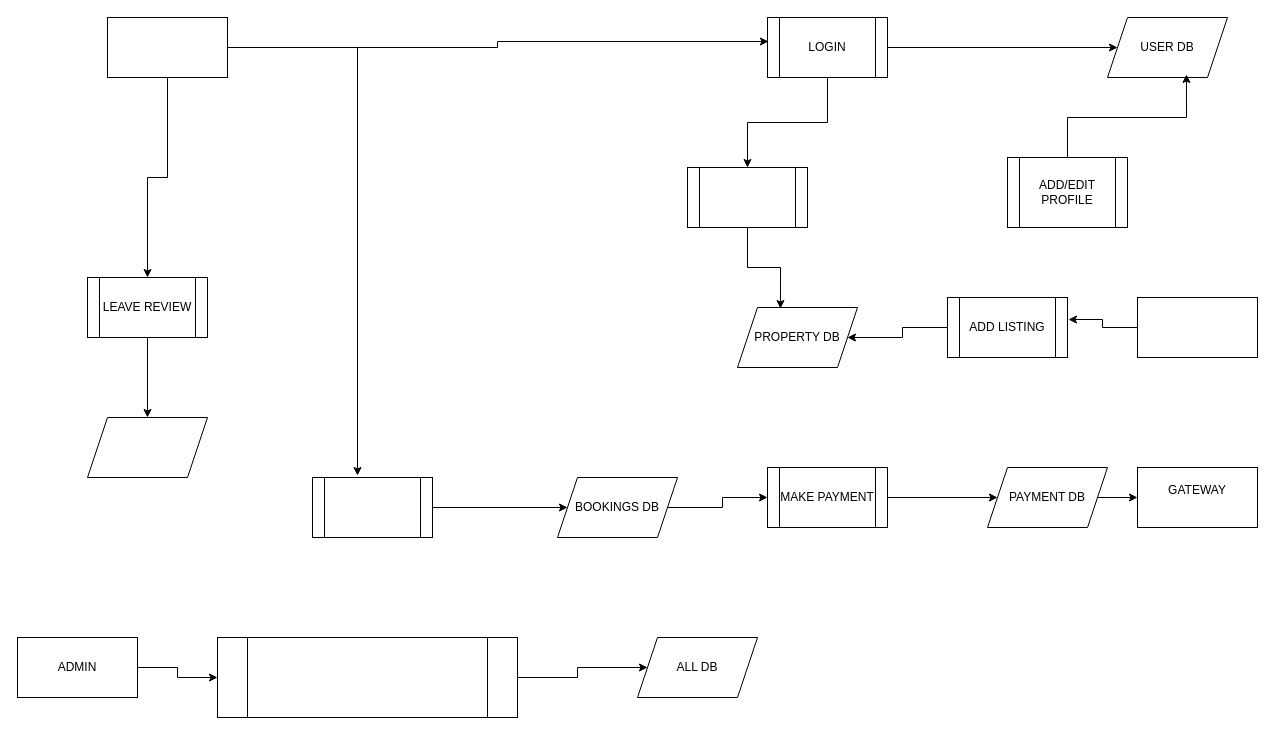
Image size: 1275x735. Some labels were removed from this diagram. The box of each missing label's shape, as (x1, y1, x2, y2) in pixels:
BOOK PROPERTY: (312, 476, 432, 538)
GUEST: (106, 16, 228, 78)
HOST: (1136, 296, 1258, 358)
MANAGE USERS/LISTING/REVIEWS/PAYMENTS: (216, 636, 518, 718)
REVIEW DB: (86, 416, 208, 478)
SEARCH LISTING: (686, 166, 808, 228)
